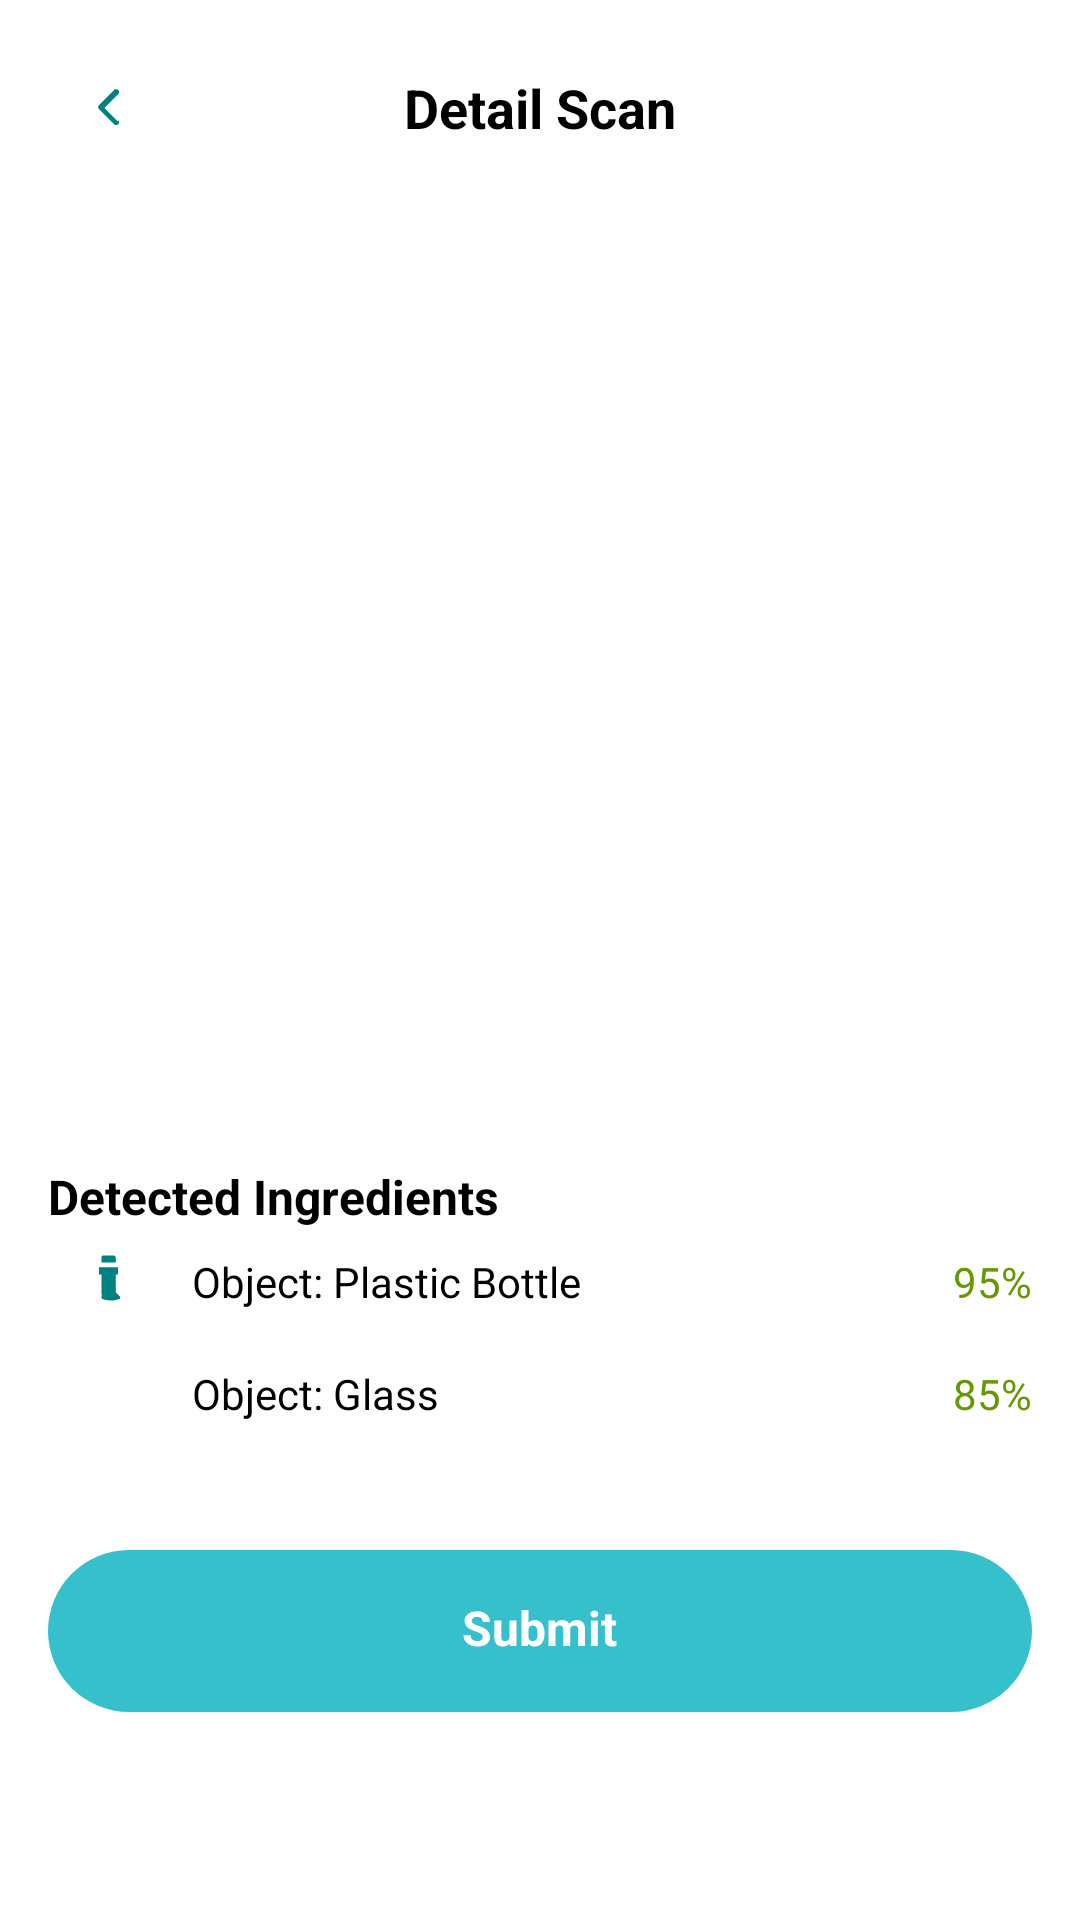

Icons on this 1080 × 1920 Android screen, each with the point to tap as (x=x, y=y):
Back: (x=108, y=107)
